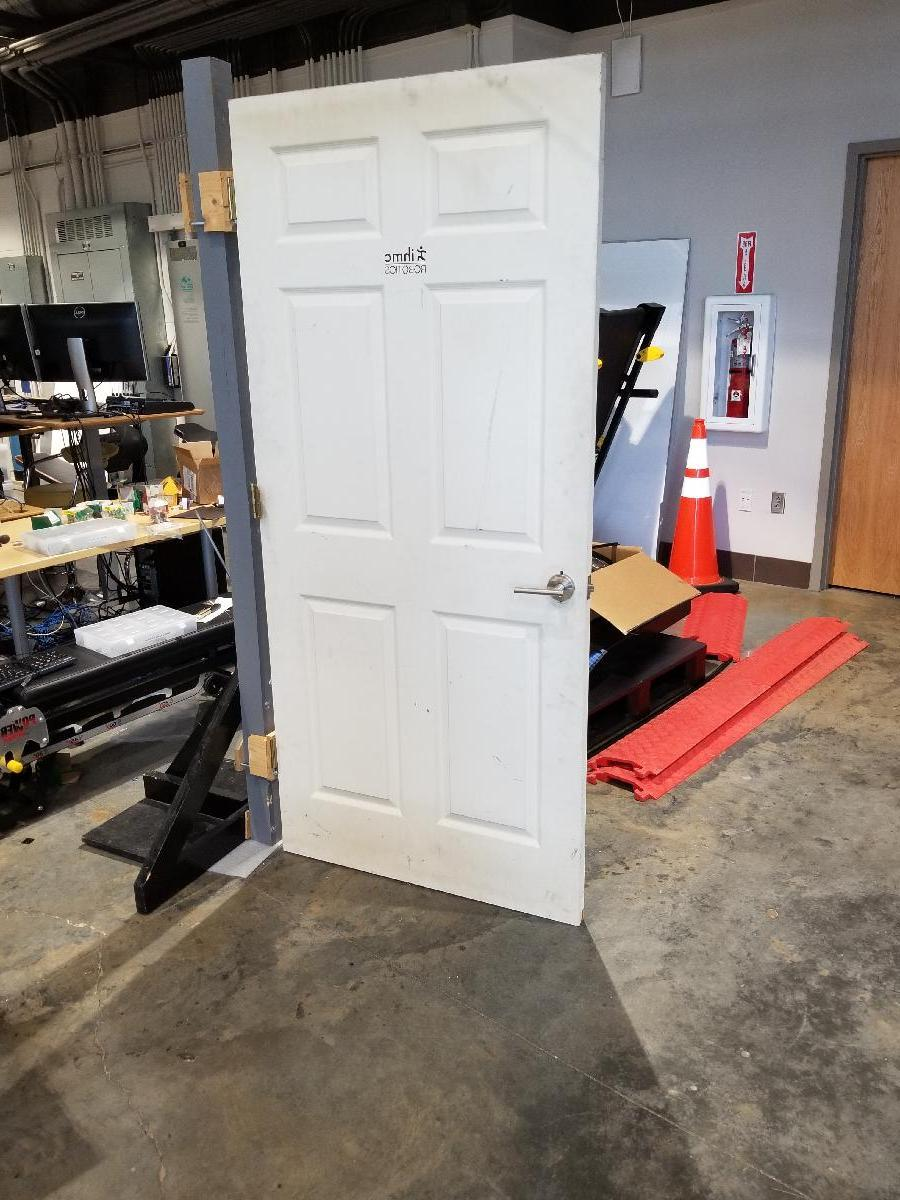door: (224, 54, 602, 928)
handle: (507, 568, 576, 605)
